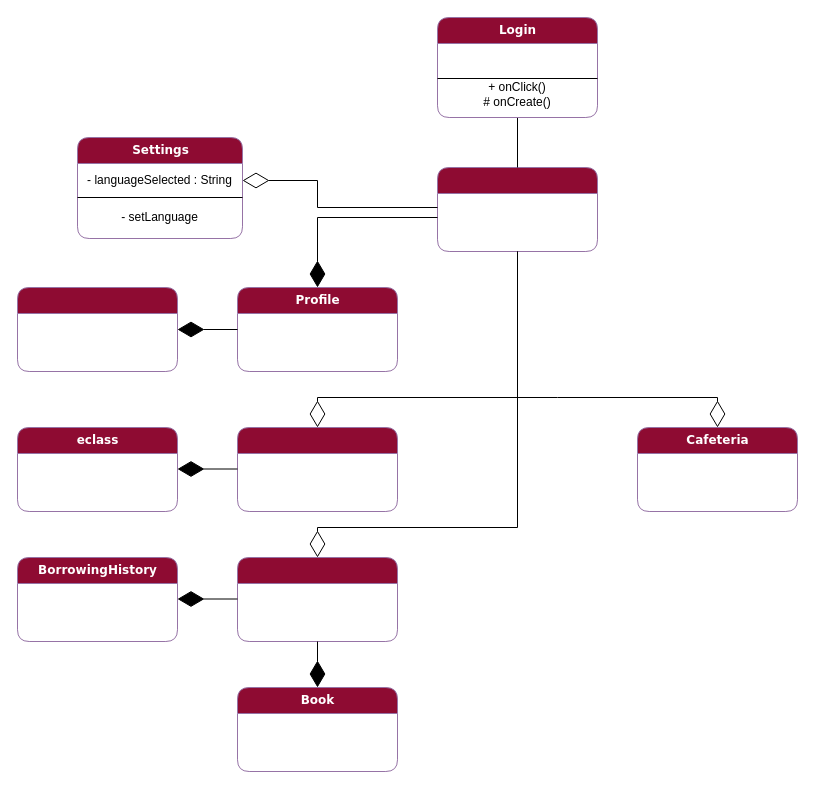
Some shapes in this 815 by 789 pixel diagram are drawn without their labels. The centre of each missing label's shape, as x and y in pixels:
"courses" goes at [317,469].
"file" goes at [97,329].
"Library" goes at [317,599].
"Student" goes at [517,209].
